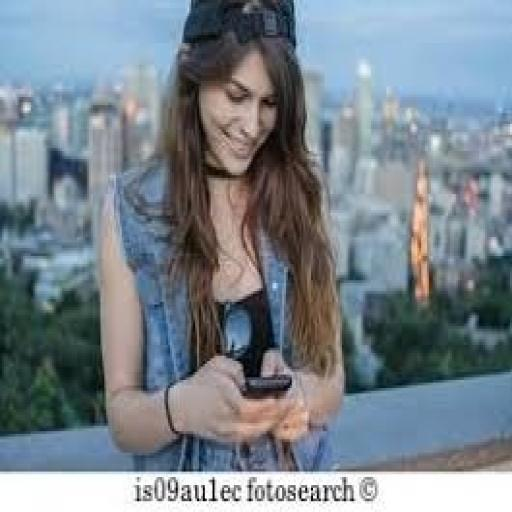texting: (95, 0, 346, 472)
